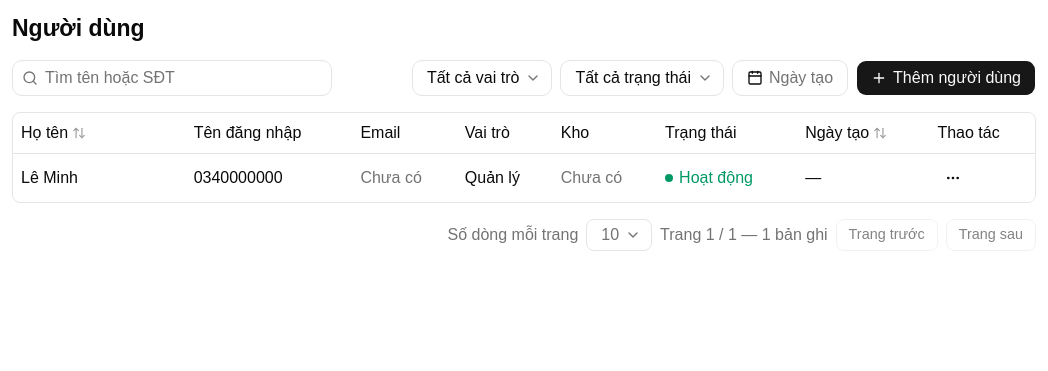
Test: UsersPage — cờ bật (backend đã deploy contract đề xuất) › menu có Sửa, Đổi vai trò, Đặt lại mật khẩu, Khoá — không có Xoá (nghiệp vụ chỉ khoá)
Click the button named "Thao tác với Lê Minh" at (953, 178), box [937,162,969,194]
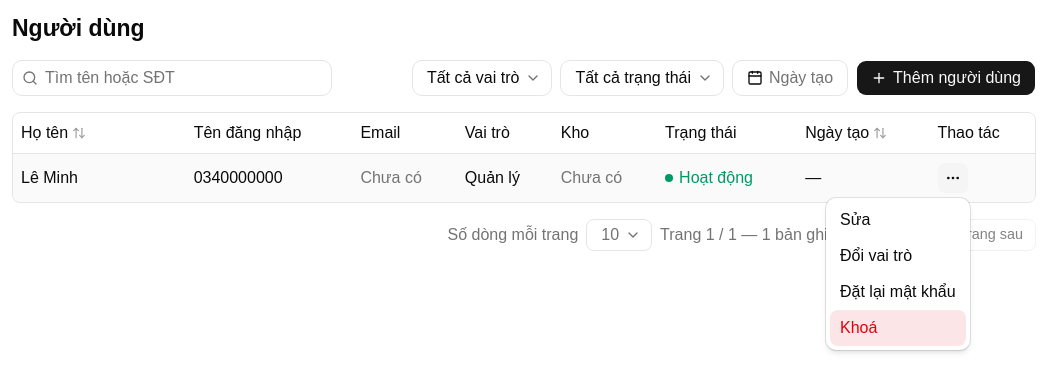
Now the menu items read "Sửa", "Đổi vai trò", "Đặt lại mật khẩu", "Khoá", in this order, box [840,211,870,228]; [840,247,912,264]; [840,283,956,300]; [830,310,966,346]
